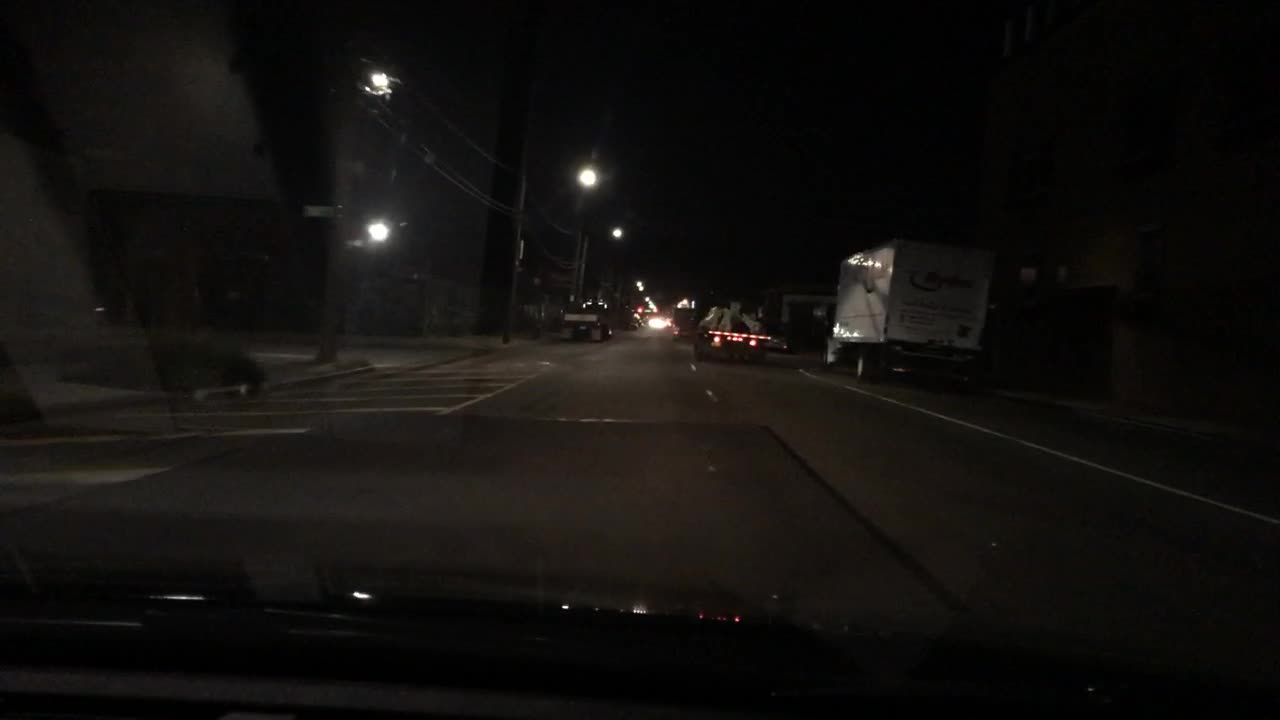car: (695, 307, 779, 364), (552, 298, 609, 340), (671, 308, 702, 339), (646, 310, 673, 332), (617, 307, 641, 330)
traffic sign: (305, 202, 334, 219)
truck: (816, 242, 999, 381)
